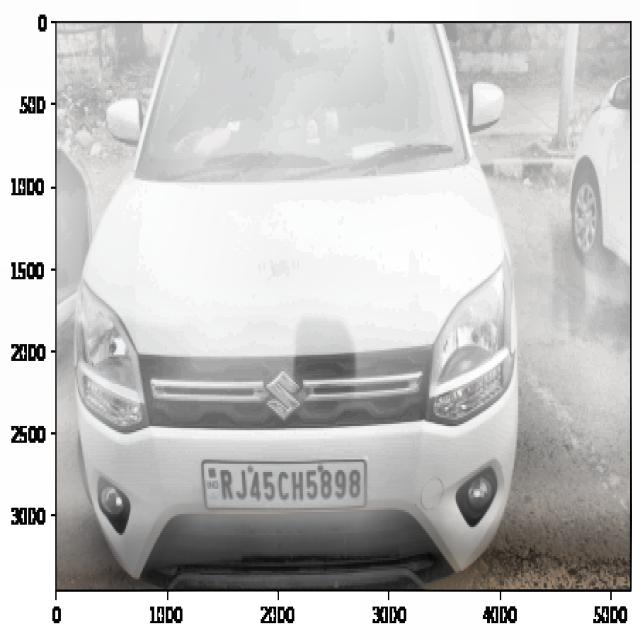license_plate: (216, 460, 366, 510)
